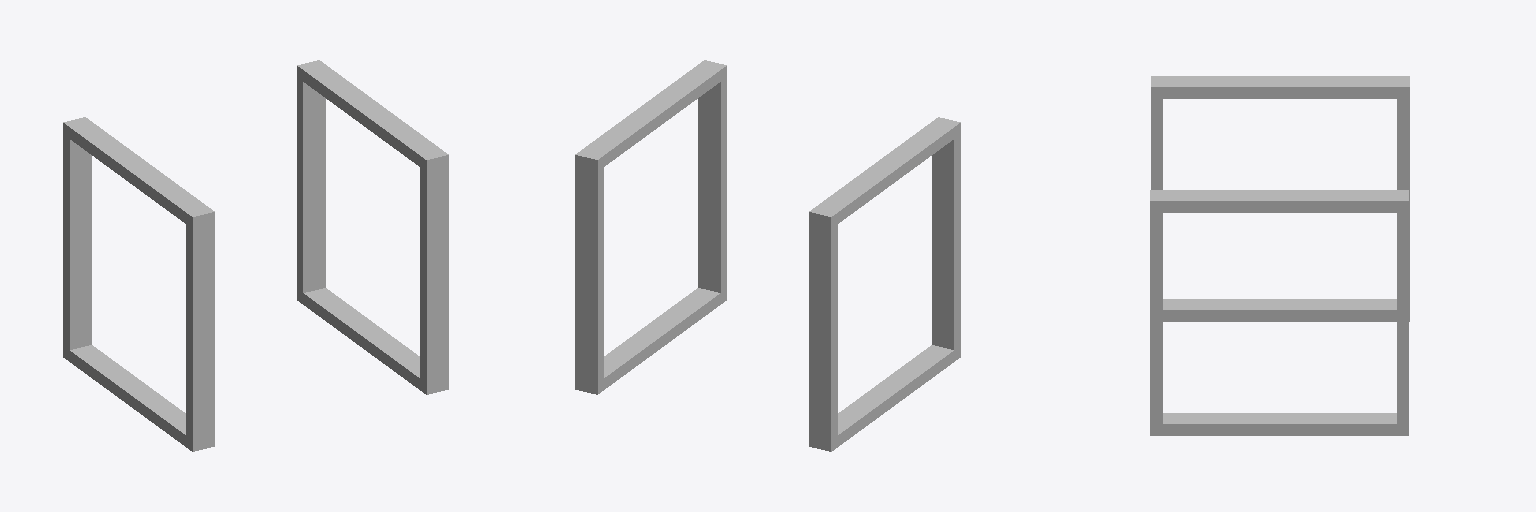
The model's file is doublewindowpop.obj.
The picture shows the model from 3 angles: view 1: azimuth 30°, elevation 25°; view 2: azimuth 150°, elevation 25°; view 3: azimuth 270°, elevation 25°; orthographic projection.
Visible parts, largest first — view 1: bedx+.001, bedx+.000; view 2: bedx+.001, bedx+.000; view 3: bedx+.000, bedx+.001.
Boxes of the visible parts, x1,y1,x2,y2 form: bedx+.001: [63, 117, 214, 451]; bedx+.000: [297, 60, 448, 394]; bedx+.001: [809, 117, 960, 451]; bedx+.000: [575, 60, 726, 394]; bedx+.000: [1150, 190, 1408, 435]; bedx+.001: [1151, 76, 1409, 321].
Bounding box in the file's own units: 1.14 × 1 × 1.